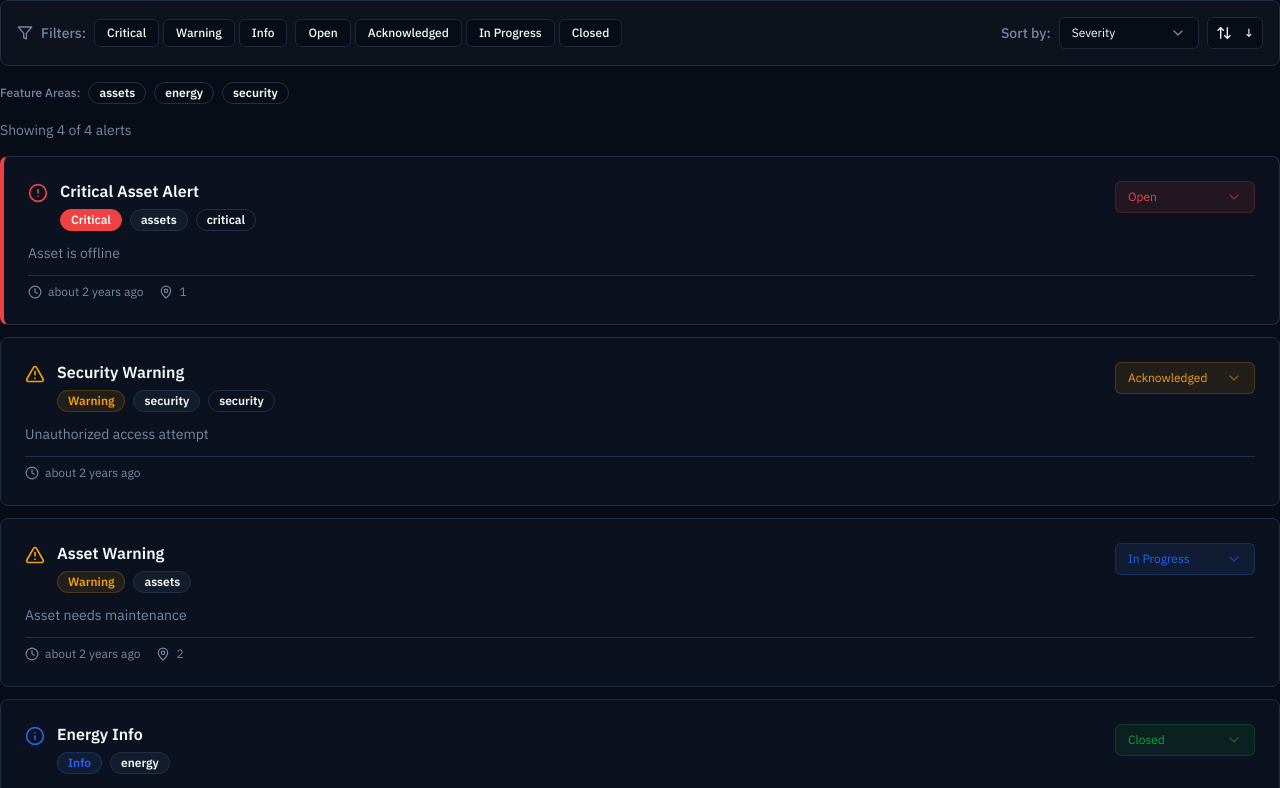
Scenario: AlertList › filters alerts by multiple criteria
This screenshot has width=1280, height=788.
# Click Warning severity filter
Click the button with aria-label "Filter by warning severity": (199, 33) [163, 19, 235, 47]
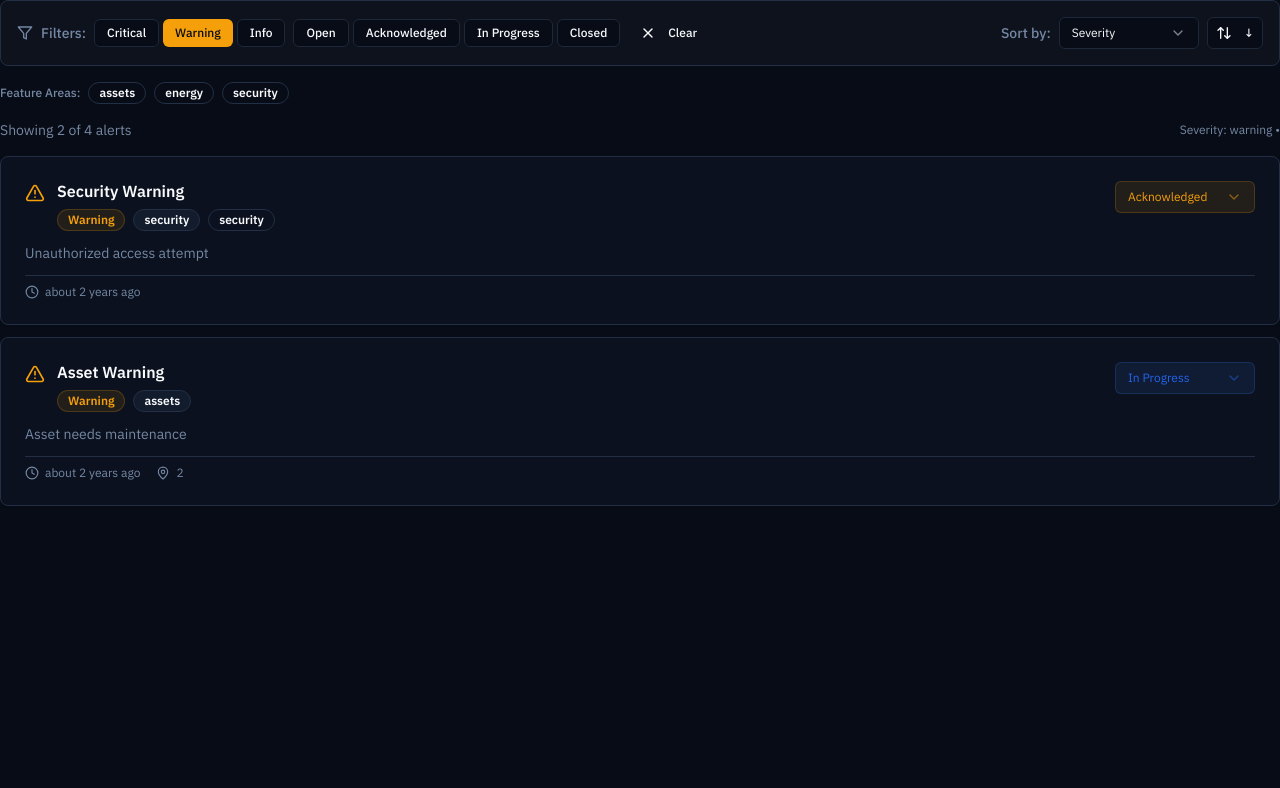
Now the text "Showing 2 of 4 alerts" is shown, box [0, 120, 132, 140]
# Now also filter by acknowledged status
Click the button with aria-label "Filter by acknowledged status": (406, 33) [353, 19, 460, 47]
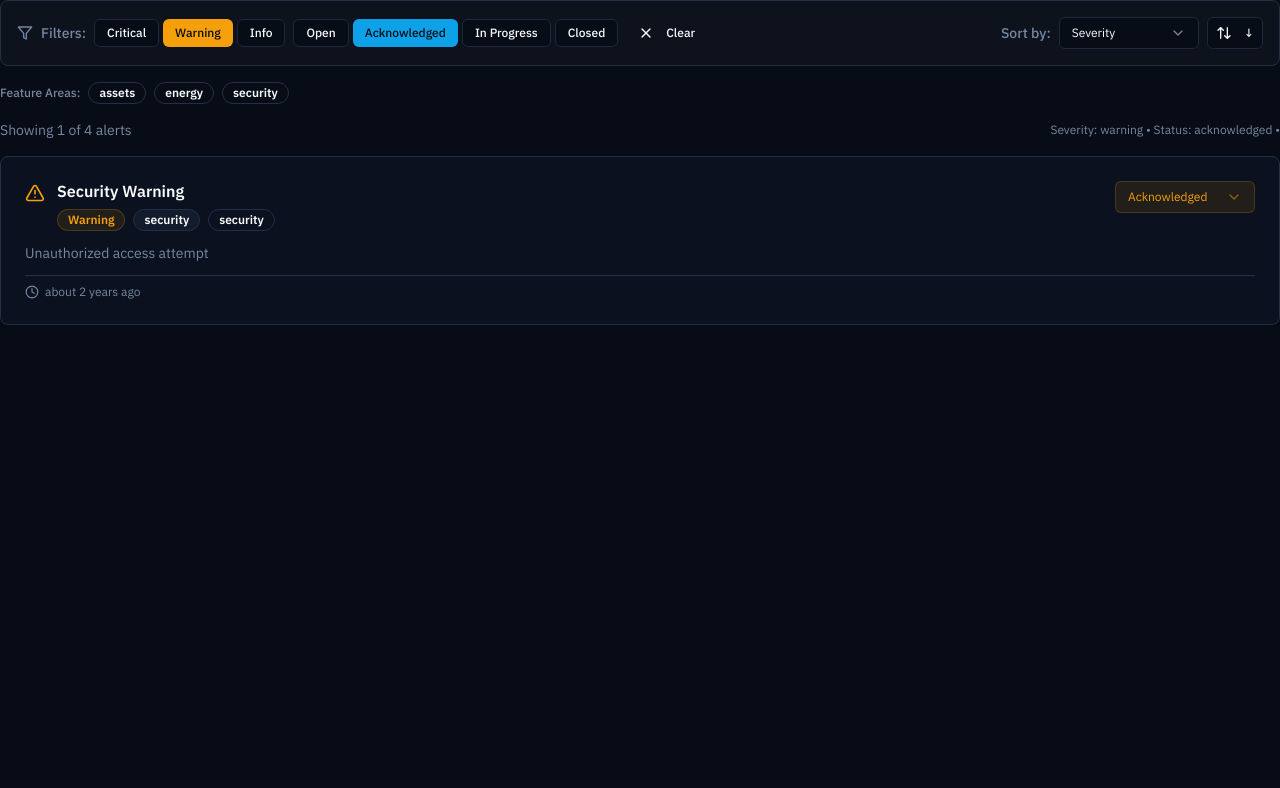
Expected: the heading "Security Warning" is shown, [57, 181, 184, 201]
Now the text "Showing 1 of 4 alerts" is shown, box [0, 120, 132, 140]
